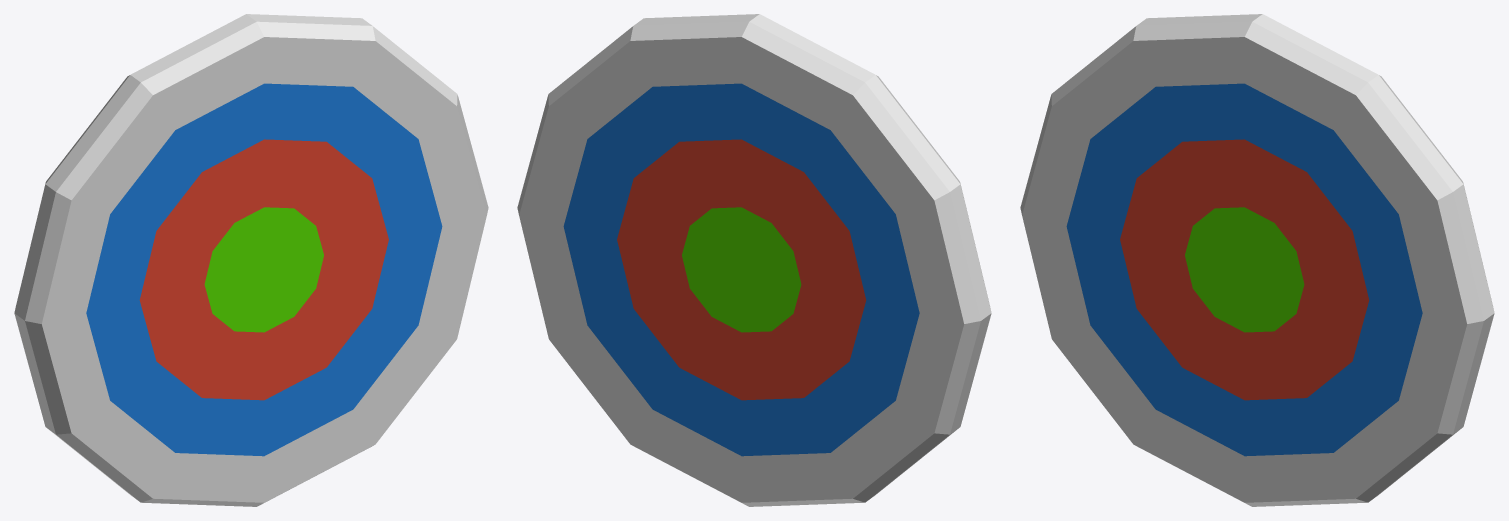
File: archery_target.glb
The picture shows the model from 3 angles, left to right: view 1: azimuth 30°, elevation 25°; view 2: azimuth 150°, elevation 25°; view 3: azimuth 330°, elevation 25°; orthographic projection.
Visible parts, largest first — view 1: Circle; view 2: Circle; view 3: Circle.
Part boxes in pixels (x1,y1,x2,y2): Circle: (14,14,488,506); Circle: (517,14,991,506); Circle: (1020,14,1494,506).
Bounding box in the file's own units: 2.08 × 2.08 × 0.2.
